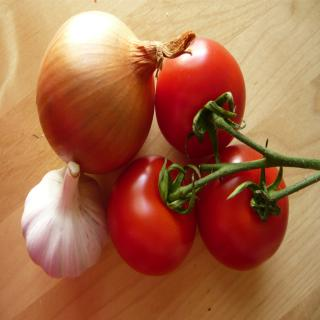tomato: (104, 151, 200, 279), (196, 142, 287, 274), (156, 36, 248, 156)
